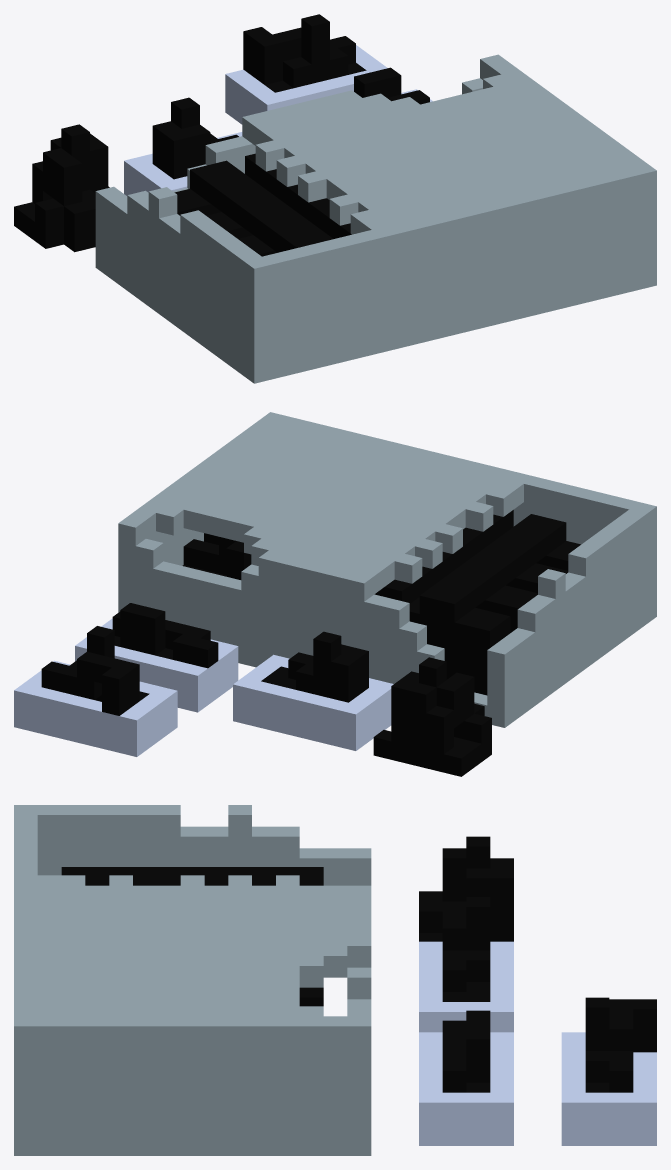
Rendered from charcoal_maker_2_no_ground.obj.
The picture shows the model from 3 angles, top to bottom: view 1: azimuth 30°, elevation 25°; view 2: azimuth 150°, elevation 25°; view 3: azimuth 270°, elevation 25°; orthographic projection. The views are drawn at different scales.
Bounding box in the file's own units: 2.3 × 0.6 × 2.7.
Materials: 1 (1 with a texture image).
